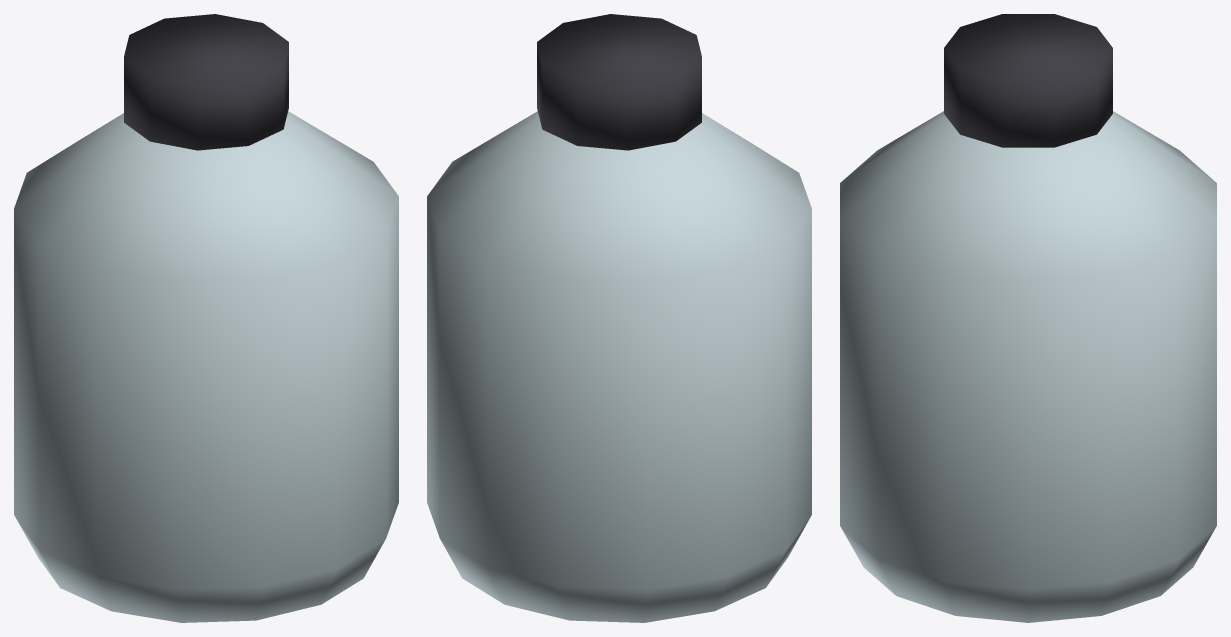
The model's file is orb_soul_jar.glb.
3 views of the same model, side by side, from view 1: azimuth 30°, elevation 25°; view 2: azimuth 150°, elevation 25°; view 3: azimuth 270°, elevation 25° (orthographic).
Parts seen in each view (by area): view 1: GD_orb_soul_jar__m0, GD_orb_soul_jar__m2; view 2: GD_orb_soul_jar__m0, GD_orb_soul_jar__m2; view 3: GD_orb_soul_jar__m0, GD_orb_soul_jar__m2.
Part boxes in pixels (<box>): GD_orb_soul_jar__m0: <box>14,111,398,622</box>; GD_orb_soul_jar__m2: <box>124,14,288,150</box>; GD_orb_soul_jar__m0: <box>427,111,811,622</box>; GD_orb_soul_jar__m2: <box>537,14,701,150</box>; GD_orb_soul_jar__m0: <box>840,111,1216,622</box>; GD_orb_soul_jar__m2: <box>944,14,1112,147</box>.
Bounding box in the file's own units: 0.16 × 0.23 × 0.156.
